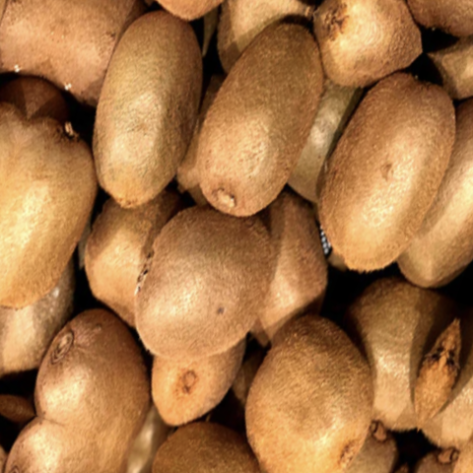kiwi: (290, 42, 473, 295), (44, 0, 241, 234), (88, 170, 296, 391), (170, 0, 349, 241), (214, 287, 413, 473), (0, 118, 124, 336)
